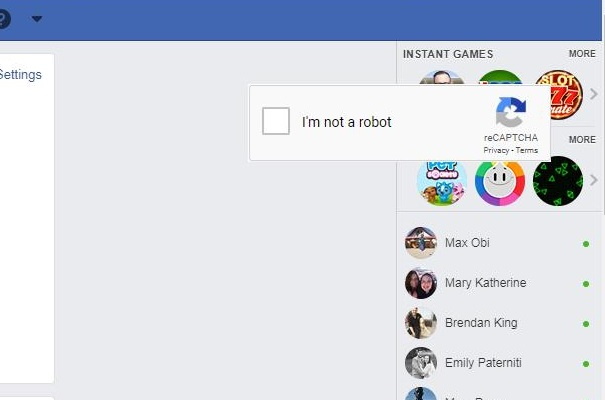captcha: (261, 107, 392, 136)
